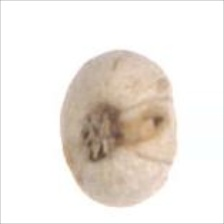L5: (124, 93, 183, 168), (75, 101, 128, 169)
L6: (54, 46, 186, 211)
